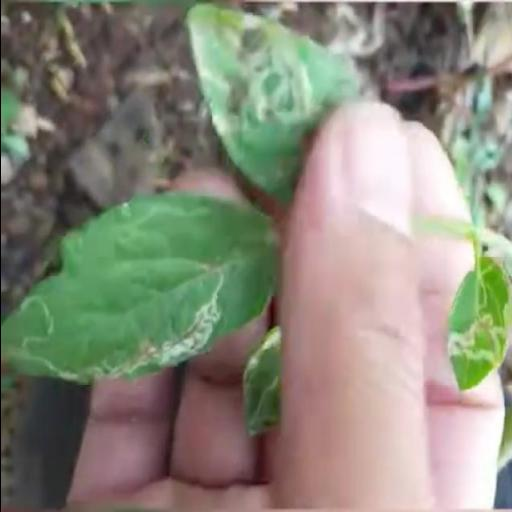Leaf Miner: (0, 190, 281, 386), (183, 0, 367, 205), (441, 261, 512, 396)
